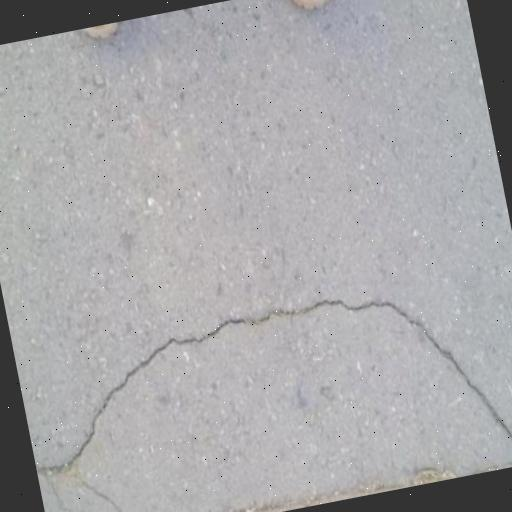spalling: (36, 278, 512, 503)
